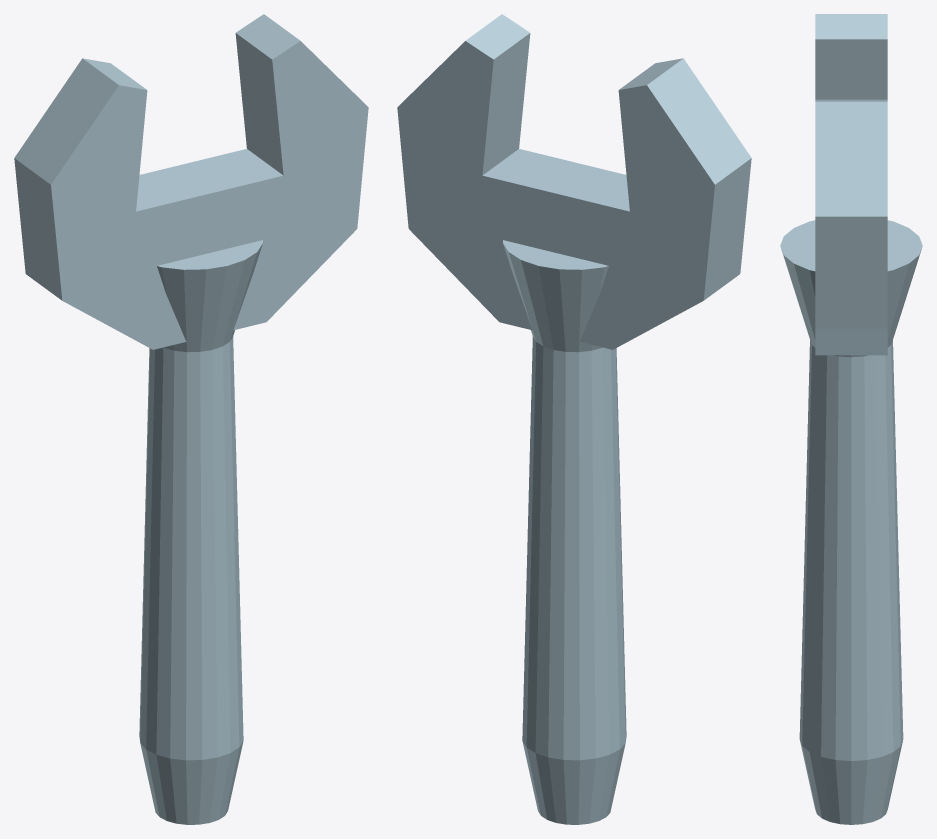
File: wrench.glb
The picture shows the model from 3 angles, left to right: view 1: azimuth 30°, elevation 25°; view 2: azimuth 150°, elevation 25°; view 3: azimuth 270°, elevation 25°; orthographic projection.
Visible parts, largest first — view 1: WrenchOpenJaw, WrenchHandle; view 2: WrenchOpenJaw, WrenchHandle; view 3: WrenchHandle, WrenchOpenJaw.
Boxes of the visible parts, x1=… form: WrenchOpenJaw: x1=14, y1=14, x2=368, y2=349; WrenchHandle: x1=139, y1=240, x2=262, y2=824; WrenchOpenJaw: x1=397, y1=14, x2=751, y2=349; WrenchHandle: x1=503, y1=240, x2=626, y2=824; WrenchHandle: x1=780, y1=220, x2=922, y2=824; WrenchOpenJaw: x1=815, y1=14, x2=887, y2=355.
Size of the model in its own units: 0.28 by 0.64 by 0.11.
